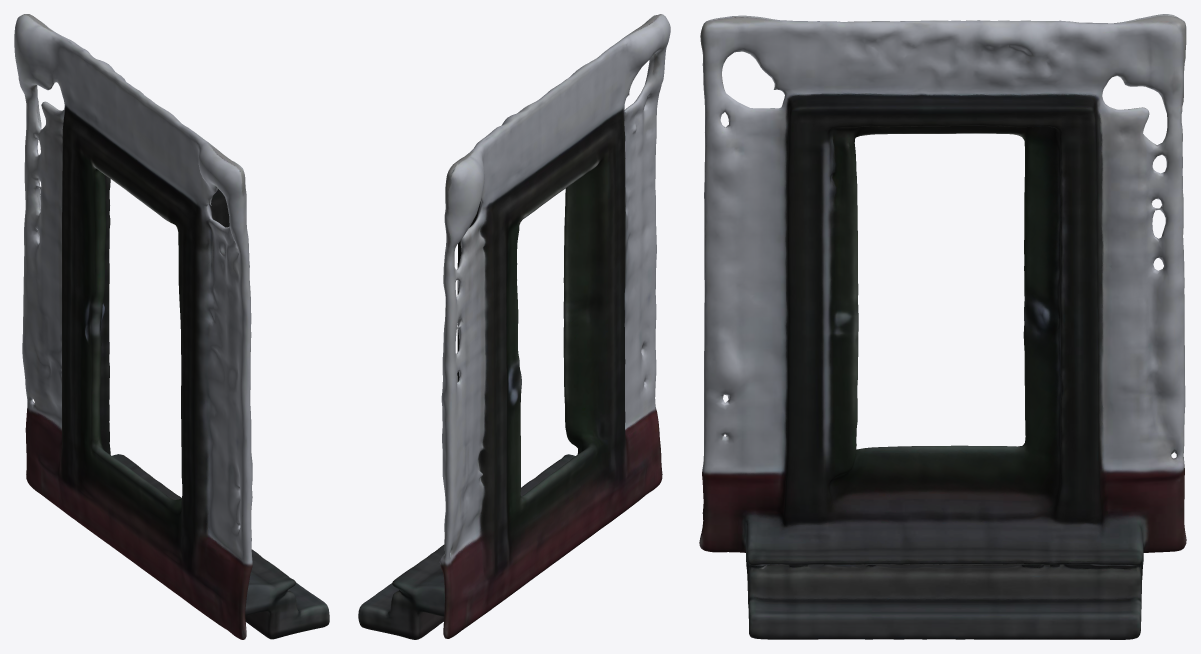
Rendered from e1890e7a82f4_the_exit__3d_asset_.fbx.
3 views of the same model, side by side, from view 1: azimuth 30°, elevation 25°; view 2: azimuth 150°, elevation 25°; view 3: azimuth 270°, elevation 25° (orthographic). The views are drawn at different scales.
Parts seen in each view (by area): view 1: high_poly; view 2: high_poly; view 3: high_poly.
Boxes of the visible parts, x1,y1,x2,y2 form: high_poly: (14, 14, 329, 639); high_poly: (358, 14, 670, 639); high_poly: (699, 14, 1186, 639).
Bounding box in the file's own units: 27.14 × 100 × 78.45.
